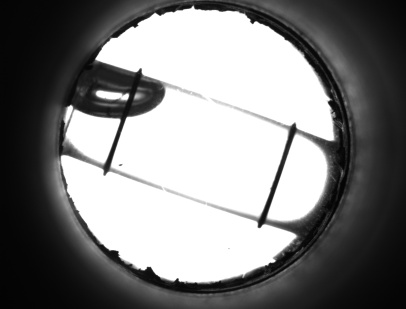line: (259, 144, 294, 209), (102, 127, 125, 158)
